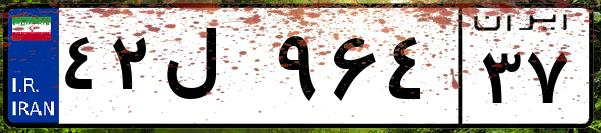2: (110, 28, 158, 98)
3: (475, 38, 525, 113)
4: (385, 28, 445, 110), (57, 26, 110, 100)
6: (330, 28, 385, 110)
7: (525, 38, 570, 115)
9: (270, 28, 330, 110)
ل: (158, 20, 270, 120)
